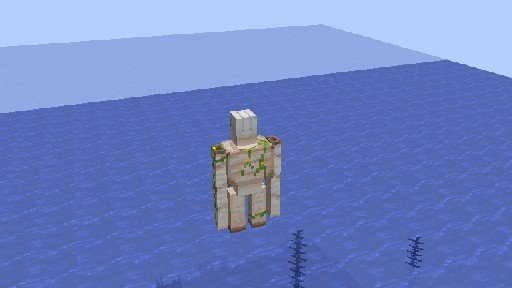iron_golem: (210, 108, 281, 233)
